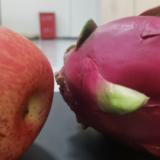apple: (1, 25, 54, 160)
pitaya: (57, 7, 160, 153)
